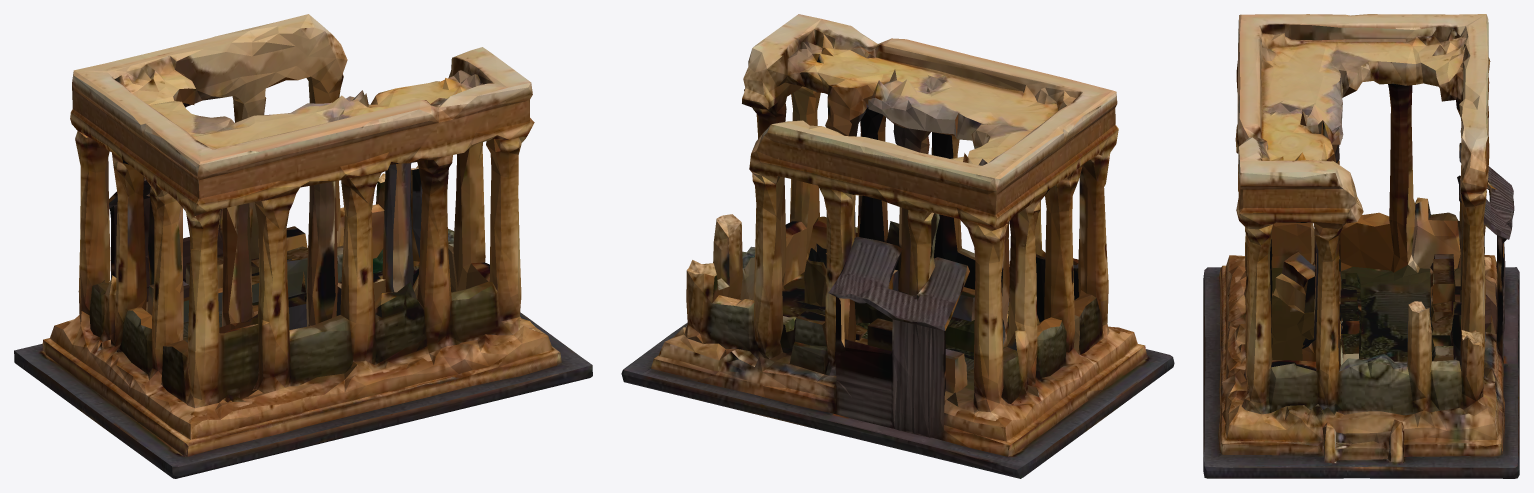
The model's file is temple-colonnade.glb.
The picture shows the model from 3 angles, left to right: view 1: azimuth 30°, elevation 25°; view 2: azimuth 150°, elevation 25°; view 3: azimuth 270°, elevation 25°; orthographic projection. The views are drawn at different scales.
Parts seen in each view (by area): view 1: tmpubvnrl28.ply; view 2: tmpubvnrl28.ply; view 3: tmpubvnrl28.ply.
Boxes of the visible parts, bbox=[...] form: tmpubvnrl28.ply: bbox=[14, 14, 592, 478]; tmpubvnrl28.ply: bbox=[621, 14, 1174, 478]; tmpubvnrl28.ply: bbox=[1203, 14, 1519, 478].
Bounding box in the file's own units: 6 × 4 × 4.
1 material, 1 textured.
